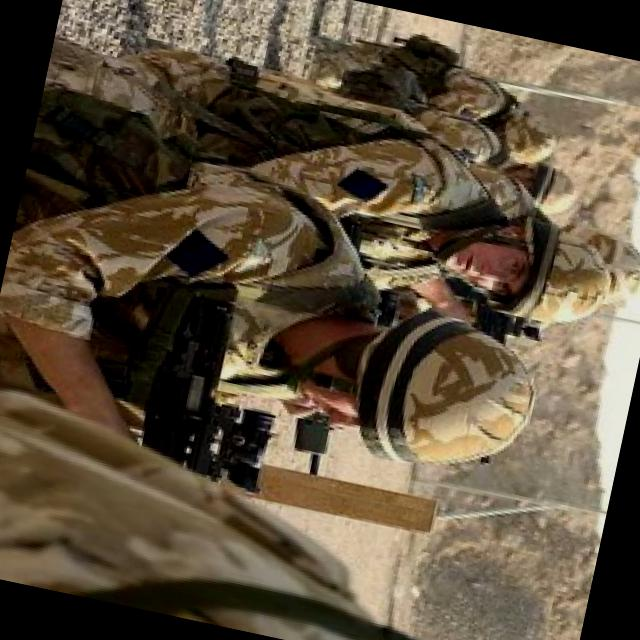long weapon: (106, 270, 292, 490)
